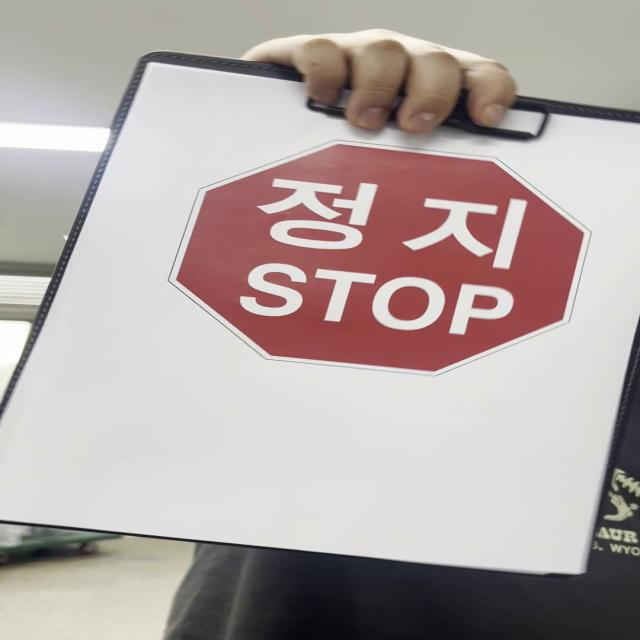stop: (173, 141, 591, 379)
